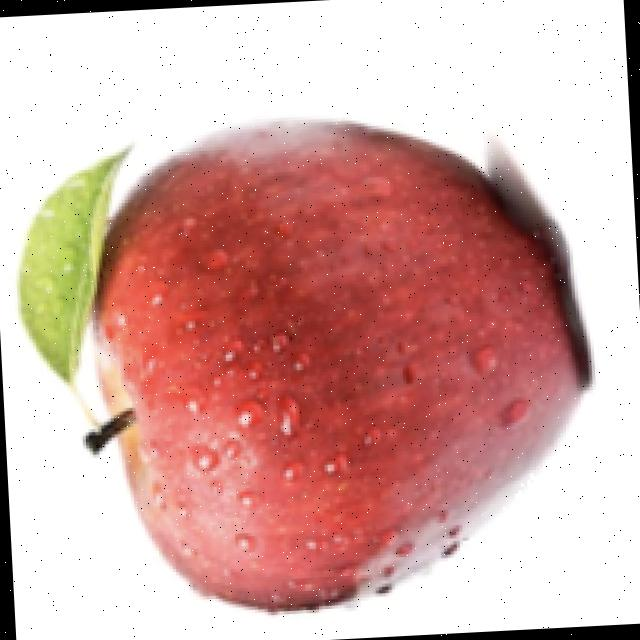apple: (11, 115, 599, 621)
